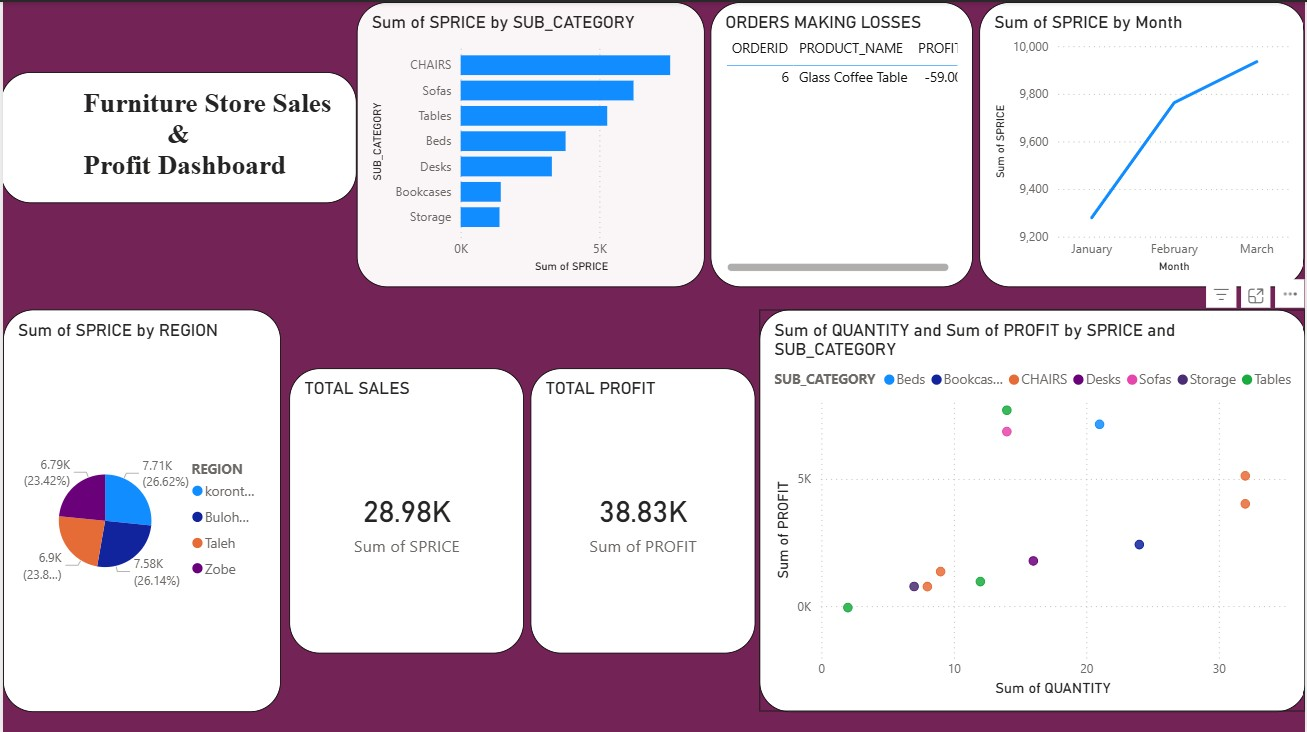

Layout of this report page (visuals, bound fields, positions):
{"tool":"powerbi","page":{"name":"Page 1","canvas":[1280,720],"ordinal":0},"visuals":[{"type":"card","title":"TOTAL SALES","fields":{"Values":["Sum(furniture furnituresales.SPRICE)"]},"box":[281.3,359.5,230.5,279.9],"z":0},{"type":"barChart","fields":{"Category":["furniture furnituresales.SUB_CATEGORY"],"Y":["Sum(furniture furnituresales.SPRICE)"]},"box":[347.6,0,341.7,279.9],"z":1000},{"type":"lineChart","fields":{"Y":["Sum(furniture furnituresales.SPRICE)"],"Category":["furniture furnituresales.ORDERDATE.Variation.Date Hierarchy.Month"]},"box":[958.2,0,319.7,279.9],"z":2000},{"type":"pieChart","fields":{"Category":["furniture furnituresales.REGION"],"Y":["Sum(furniture furnituresales.SPRICE)"]},"box":[0,301.9,273.1,395.2],"z":3000},{"type":"tableEx","title":"ORDERS MAKING LOSSES","fields":{"Values":["furniture furnituresales.ORDERID","furniture furnituresales.PRODUCT_NAME","furniture furnituresales.PROFIT"]},"box":[694.8,0,258,279.9],"z":4000},{"type":"card","title":"TOTAL PROFIT","fields":{"Values":["Sum(furniture furnituresales.PROFIT)"]},"box":[517.3,359.5,220.9,279.9],"z":5000},{"type":"scatterChart","fields":{"X":["Sum(furniture furnituresales.QUANTITY)"],"Y":["Sum(furniture furnituresales.PROFIT)"],"Series":["furniture furnituresales.SUB_CATEGORY"],"Category":["furniture furnituresales.SPRICE"]},"box":[742.4,301.9,537.9,395.2],"z":6000},{"type":"textbox","box":[-2.3,68.6,349.9,129],"z":7000}]}

Visuals, with their boxes in screenshot pixels (x1, y1, x2, y2), scaled from the page's 1280x720 canvas onto the 1307x732 screenshot:
"TOTAL SALES" card: select_region(287, 365, 523, 650)
barChart - furniture furnituresales.SUB_CATEGORY x Sum(furniture furnituresales.SPRICE): select_region(355, 0, 704, 285)
lineChart - Sum(furniture furnituresales.SPRICE) x furniture furnituresales.ORDERDATE.Variation.Date Hierarchy.Month: select_region(978, 0, 1305, 285)
pieChart - furniture furnituresales.REGION x Sum(furniture furnituresales.SPRICE): select_region(0, 307, 279, 709)
"ORDERS MAKING LOSSES" tableEx: select_region(709, 0, 973, 285)
"TOTAL PROFIT" card: select_region(528, 365, 754, 650)
scatterChart - Sum(furniture furnituresales.QUANTITY) x Sum(furniture furnituresales.PROFIT): select_region(758, 307, 1306, 709)
textbox: select_region(0, 70, 355, 201)
